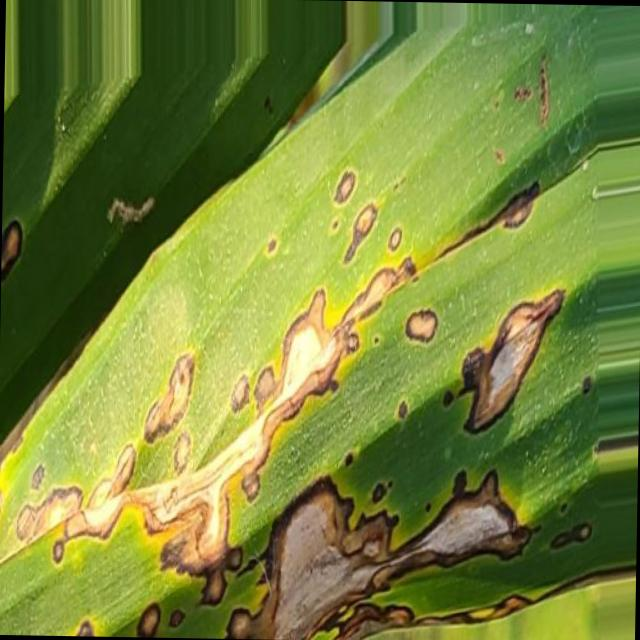Banana_Black_Sigatoka: (11, 282, 600, 640)
